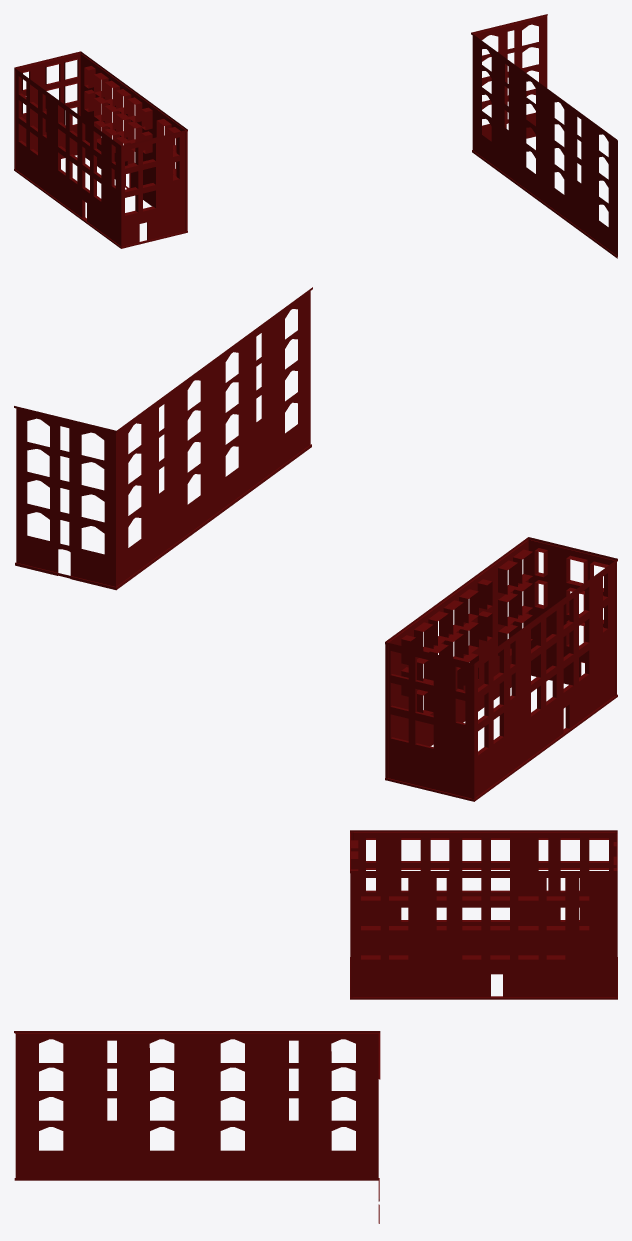
File: WhiteBuildings.fbx
The picture shows the model from 3 angles, top to bottom: view 1: azimuth 30°, elevation 25°; view 2: azimuth 150°, elevation 25°; view 3: azimuth 270°, elevation 25°; orthographic projection. The views are drawn at different scales.
Parts seen in each view (by area): view 1: Apartment_Buidling_01_Base_low, ApartmentBuilding_07_Base_low; view 2: Apartment_Buidling_01_Base_low, ApartmentBuilding_07_Base_low; view 3: ApartmentBuilding_07_Base_low, Apartment_Buidling_01_Base_low.
Boxes of the visible parts, x1,y1,x2,y2 form: Apartment_Buidling_01_Base_low: (14,51,187,248); ApartmentBuilding_07_Base_low: (471,14,617,258); Apartment_Buidling_01_Base_low: (385,537,617,801); ApartmentBuilding_07_Base_low: (14,287,312,590); ApartmentBuilding_07_Base_low: (14,1031,380,1223); Apartment_Buidling_01_Base_low: (350,830,617,999).
Bounding box in the file's own units: 58.1 × 15.11 × 55.42.
